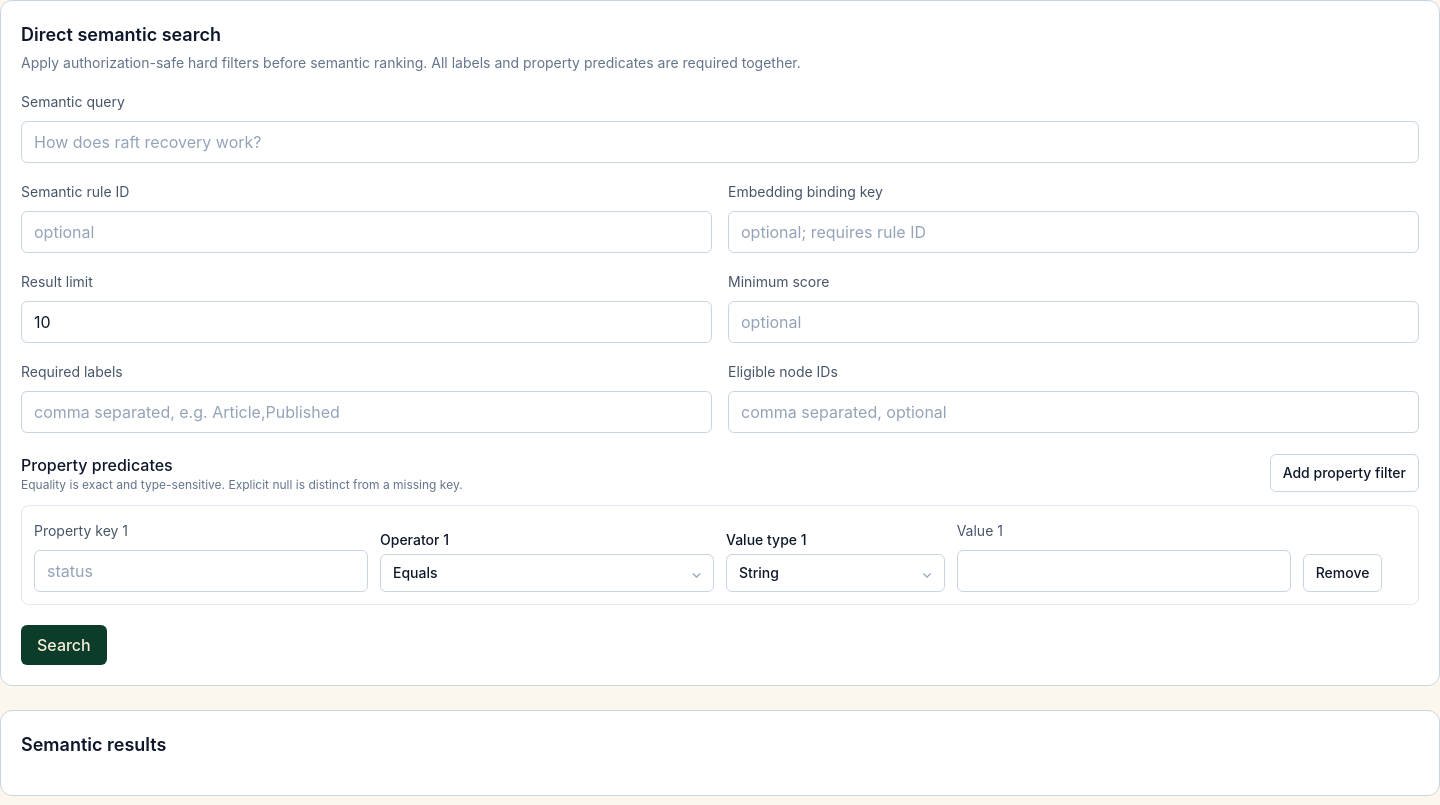
Scenario: rejects an invalid numeric predicate before invoking the service
In the field labelled "Semantic query": [720, 142] box [21,121,1419,163], type "raft recovery"
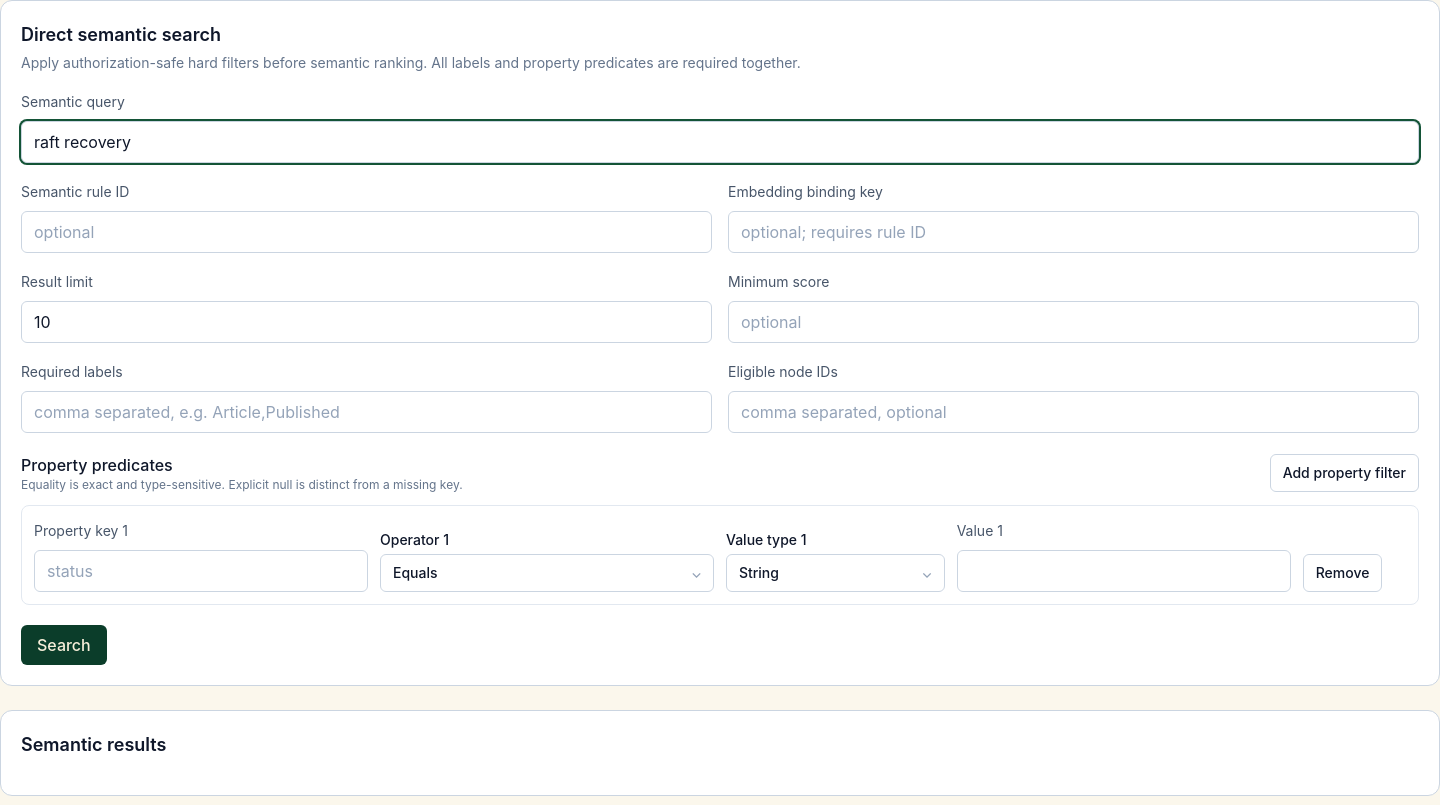
In the field labelled "Property key 1": [201, 571] box [34,550,368,592], type "priority"
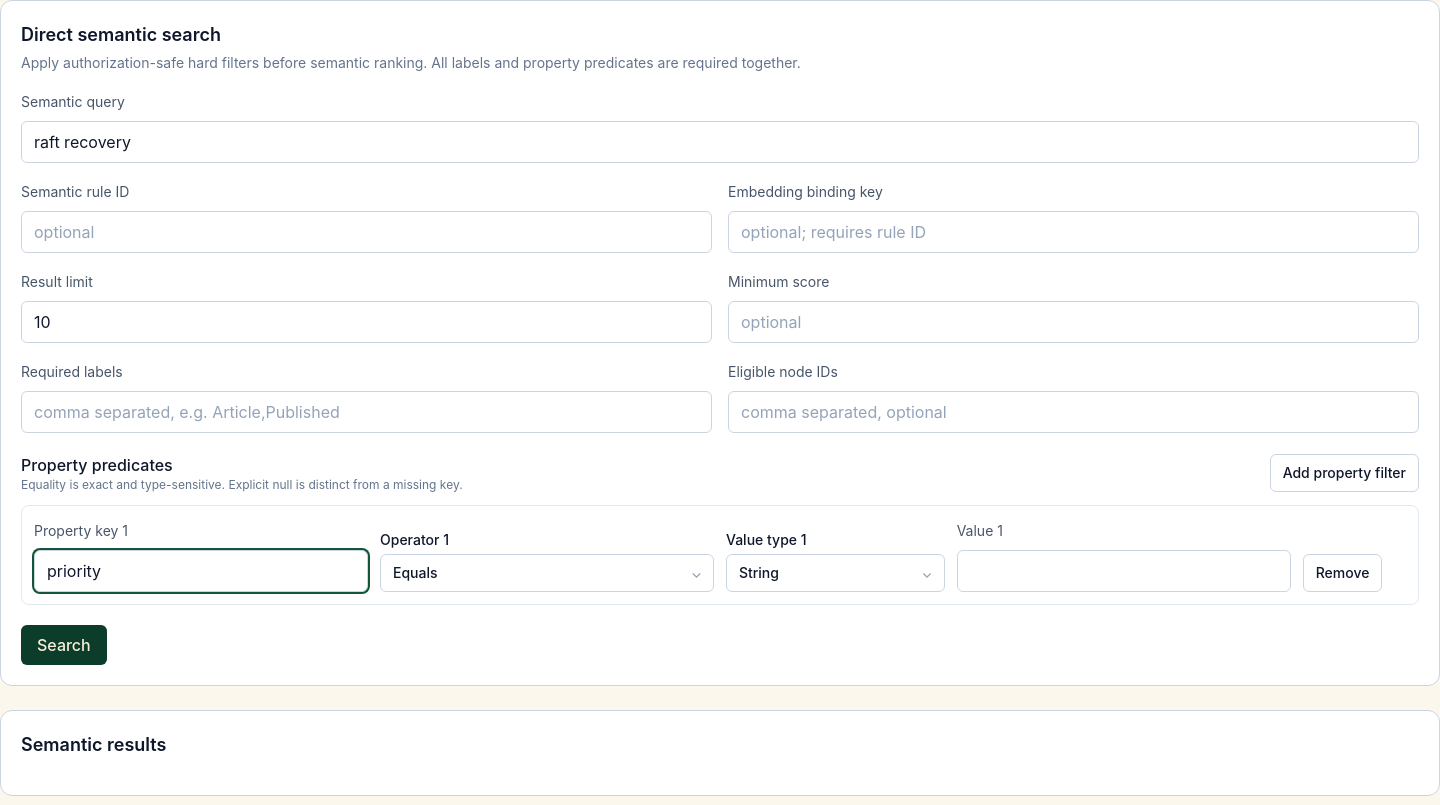
Select "Number" in the dropdown labelled "Value type 1": [835, 573] box [726,554,945,592]
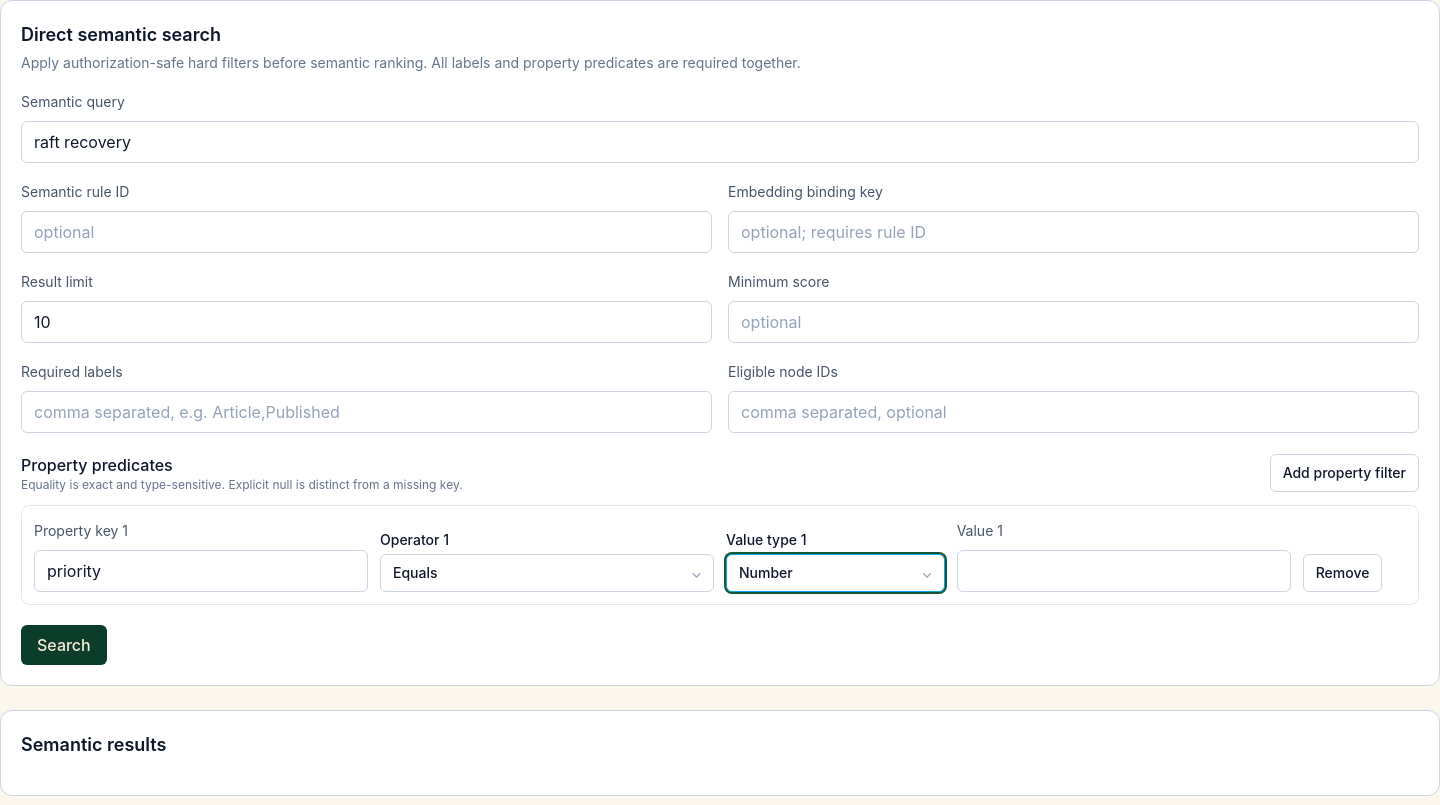
Click the button "Search": [64, 645] box [21,625,107,665]
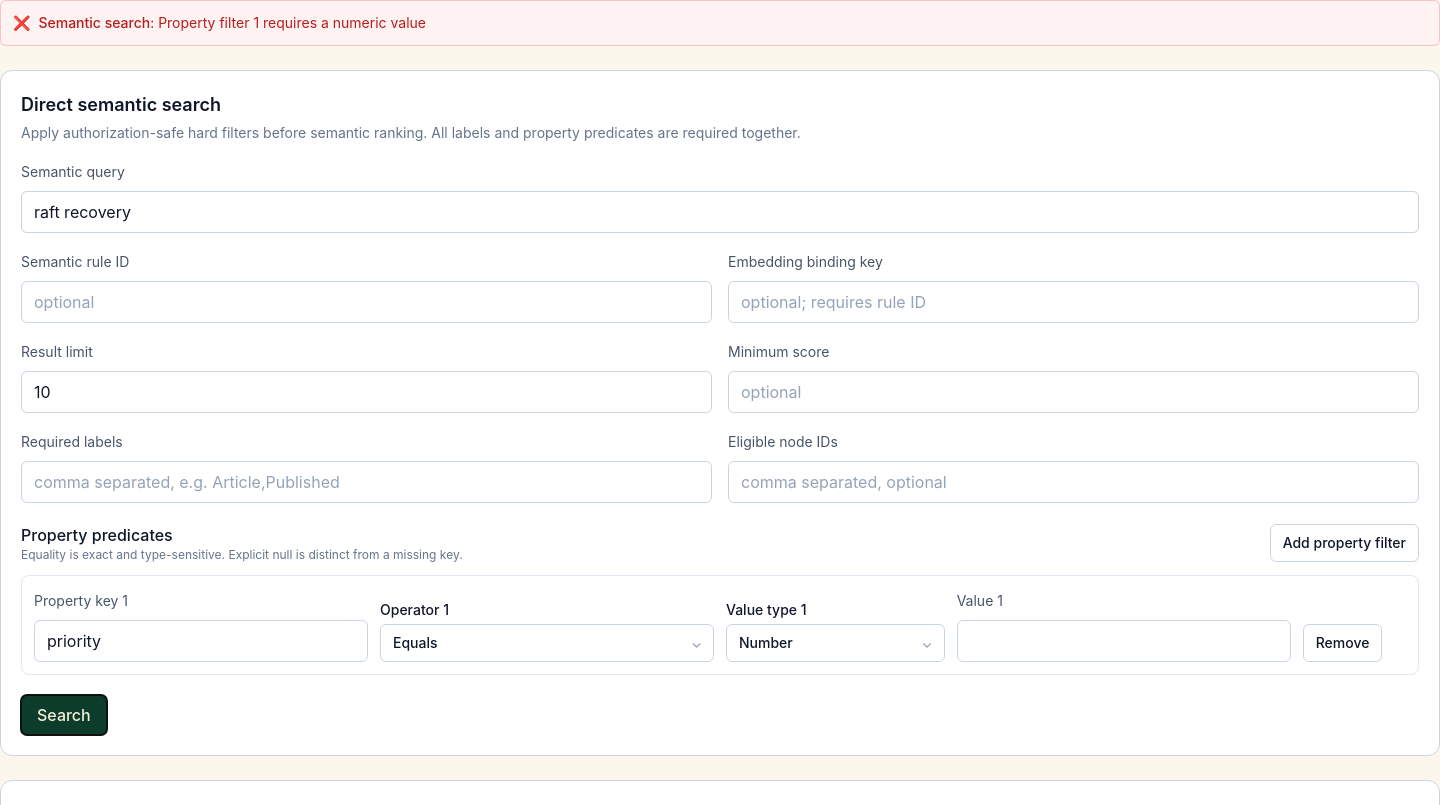
Result: the message shows "Property filter 1 requires a numeric value" at [158,14,426,31]
